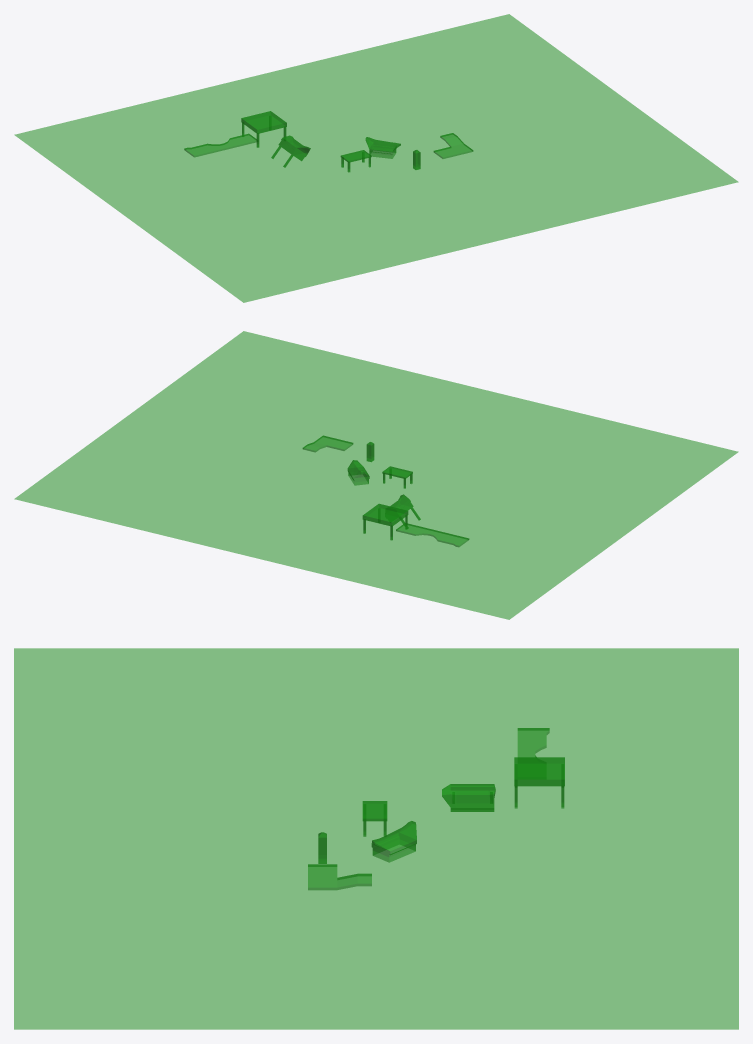
Rendered from cameracol.obj.
3 renders of one model, top to bottom at view 1: azimuth 30°, elevation 25°; view 2: azimuth 150°, elevation 25°; view 3: azimuth 270°, elevation 25°, orthographic. The views are drawn at different scales.
Size of the model in its own units: 310 by 15.39 by 249.
